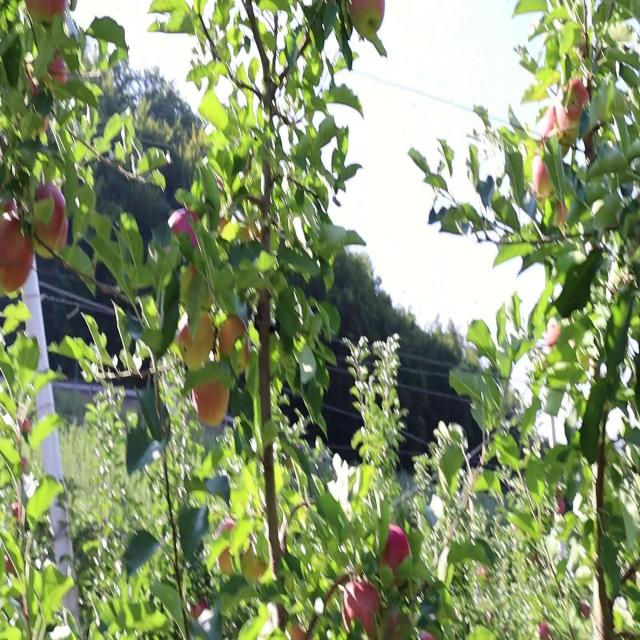apple: (0, 199, 35, 292), (36, 184, 71, 254), (344, 575, 381, 635), (192, 376, 231, 432), (180, 312, 216, 361), (0, 248, 35, 297), (220, 312, 251, 366), (380, 526, 412, 576), (348, 0, 387, 34), (172, 206, 200, 251), (564, 78, 591, 121), (552, 106, 575, 148), (4, 263, 32, 297), (220, 519, 236, 578), (24, 49, 43, 98), (348, 0, 380, 27), (28, 0, 68, 21), (532, 156, 552, 196), (48, 49, 68, 87), (552, 106, 574, 140), (36, 0, 67, 21), (28, 0, 56, 21), (548, 319, 562, 350), (544, 113, 556, 146), (556, 206, 568, 226)
